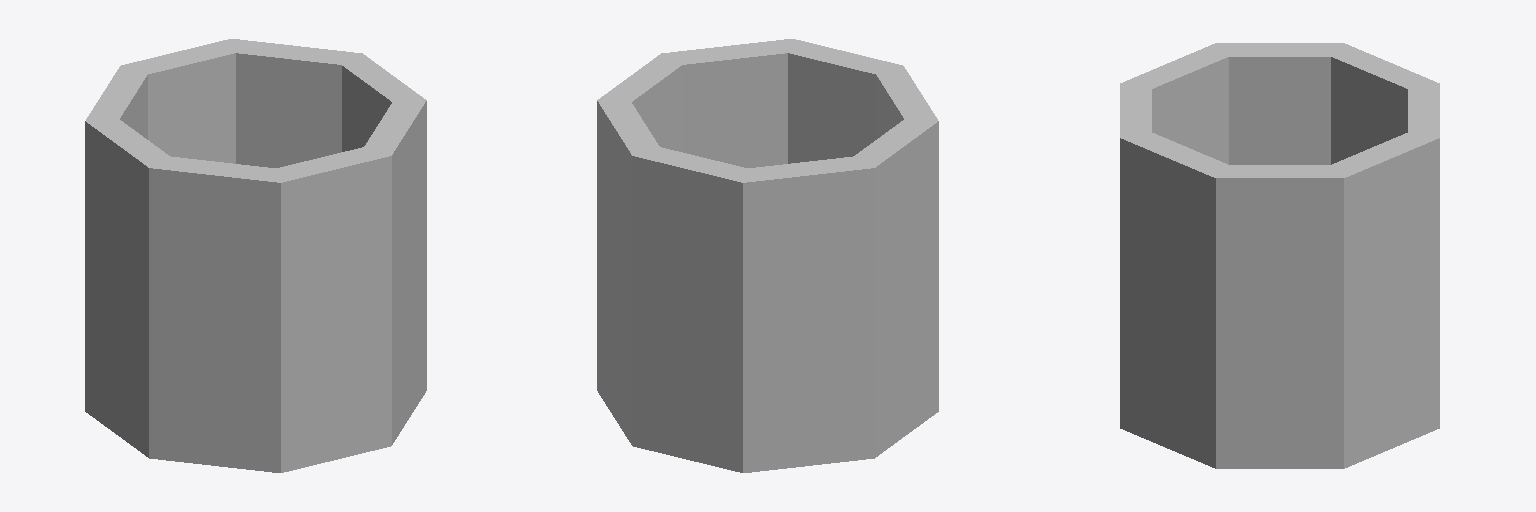
File: BG_POT_01.obj
The picture shows the model from 3 angles: view 1: azimuth 30°, elevation 25°; view 2: azimuth 150°, elevation 25°; view 3: azimuth 270°, elevation 25°; orthographic projection.
Parts seen in each view (by area): view 1: pot_01; view 2: pot_01; view 3: pot_01.
Boxes of the visible parts, <box> form: pot_01: <box>85,39,426,472</box>; pot_01: <box>597,39,938,472</box>; pot_01: <box>1120,43,1439,468</box>.
Size of the model in its own units: 50 by 50 by 50.